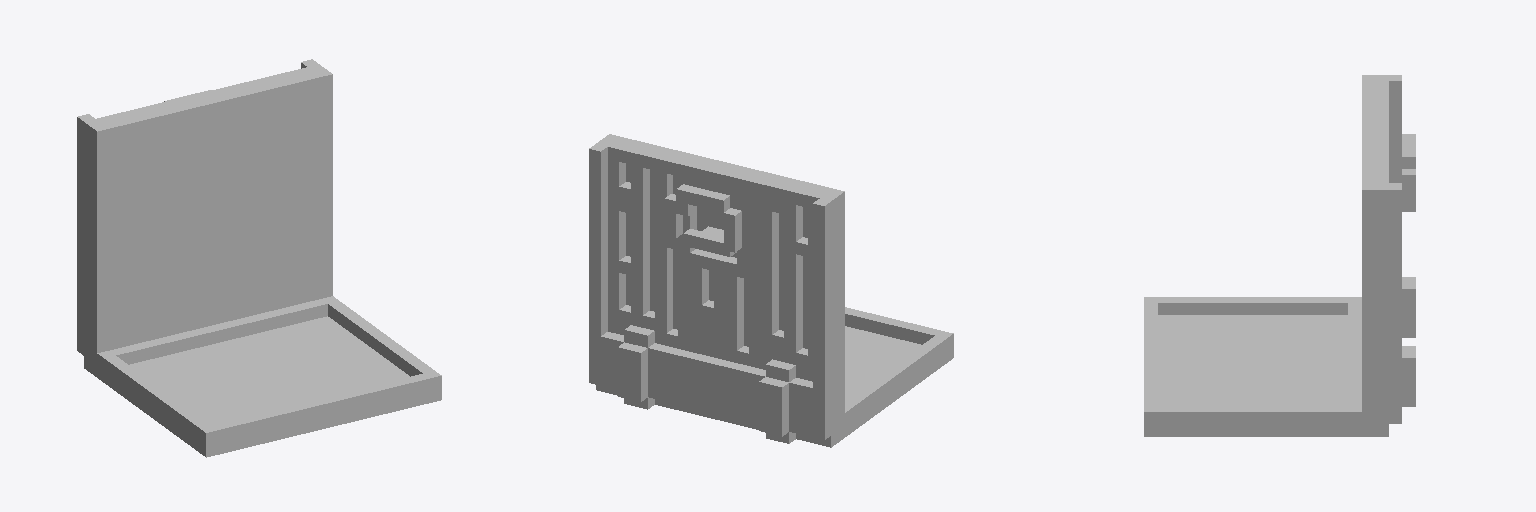
File: Trap_Door - Open-newCols.obj
3 renders of one model, left to right at view 1: azimuth 30°, elevation 25°; view 2: azimuth 150°, elevation 25°; view 3: azimuth 270°, elevation 25°, orthographic.
Visible parts, largest first — view 1: object 1; view 2: object 1; view 3: object 1.
Boxes of the visible parts, x1,y1,x2,y2 form: object 1: [77, 59, 441, 457]; object 1: [589, 134, 953, 447]; object 1: [1144, 75, 1415, 436].
Bounding box in the file's own units: 2 × 2 × 2.